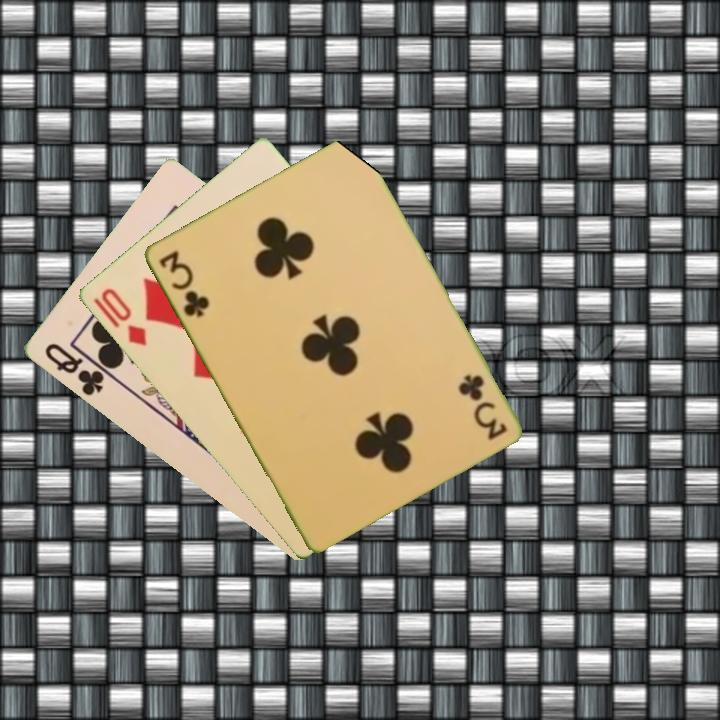10d: (89, 284, 150, 349)
3c: (155, 247, 212, 321), (455, 370, 510, 443)
Qc: (40, 339, 115, 399)
